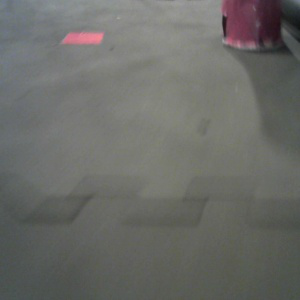Right: (221, 1, 285, 51)
